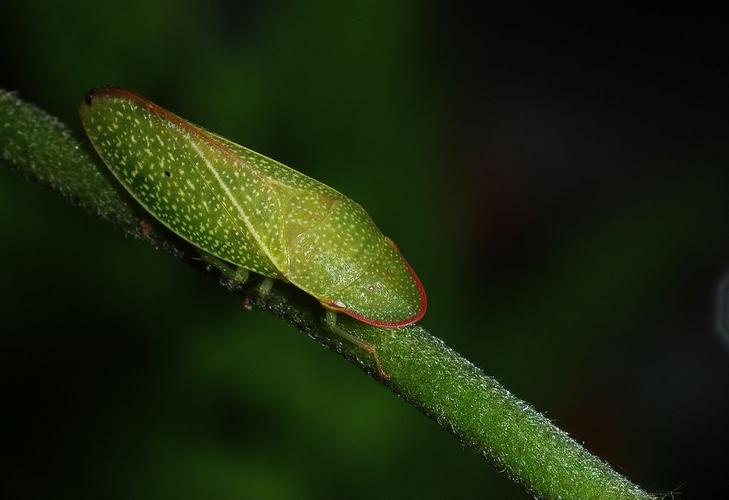Cicadellidae: (77, 83, 428, 328)
